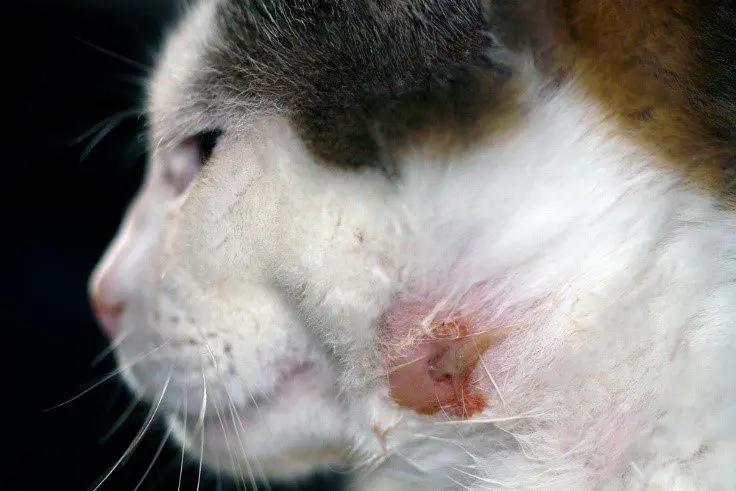infection: (269, 259, 613, 490)
